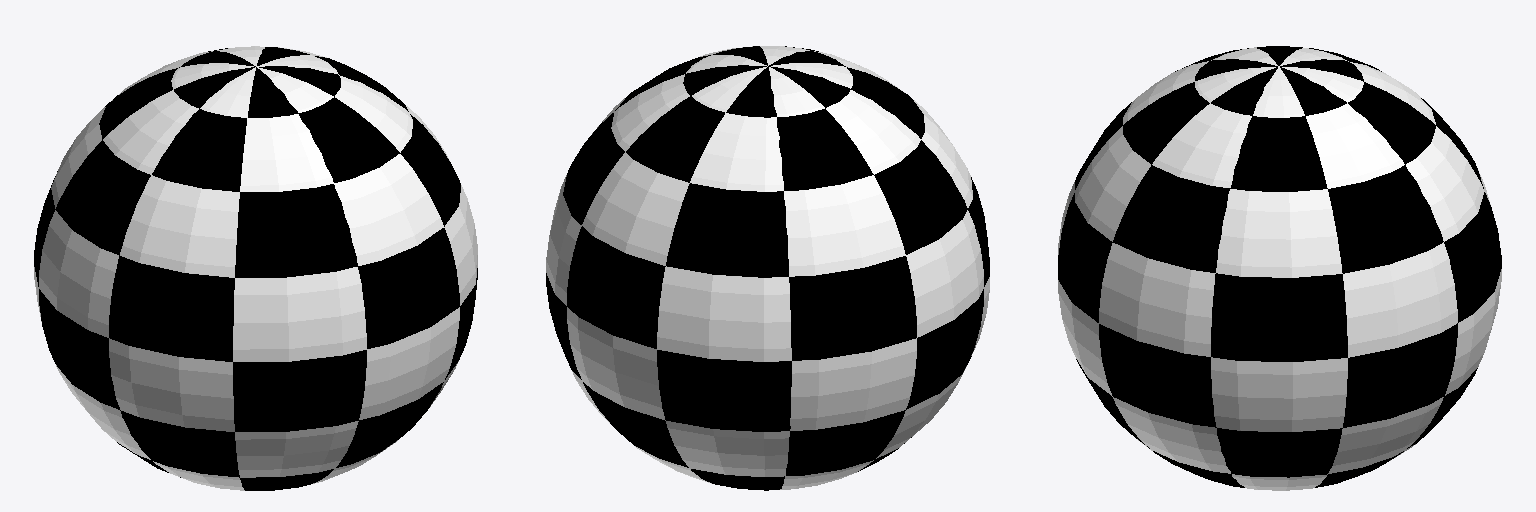
The picture shows the model from 3 angles: view 1: azimuth 30°, elevation 25°; view 2: azimuth 150°, elevation 25°; view 3: azimuth 270°, elevation 25°; orthographic projection.
Bounding box in the file's own units: 1.99 × 1.88 × 1.99.
1 materials, 1 textured.